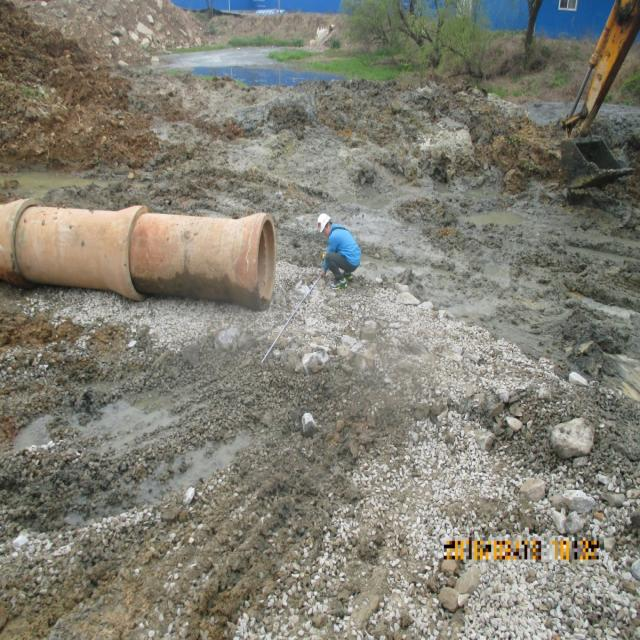excavator: (560, 0, 640, 189)
